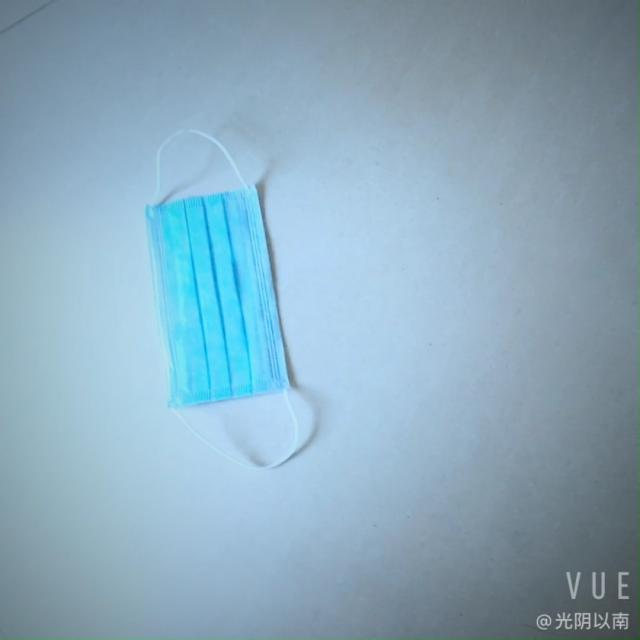face mask: (135, 180, 318, 422)
